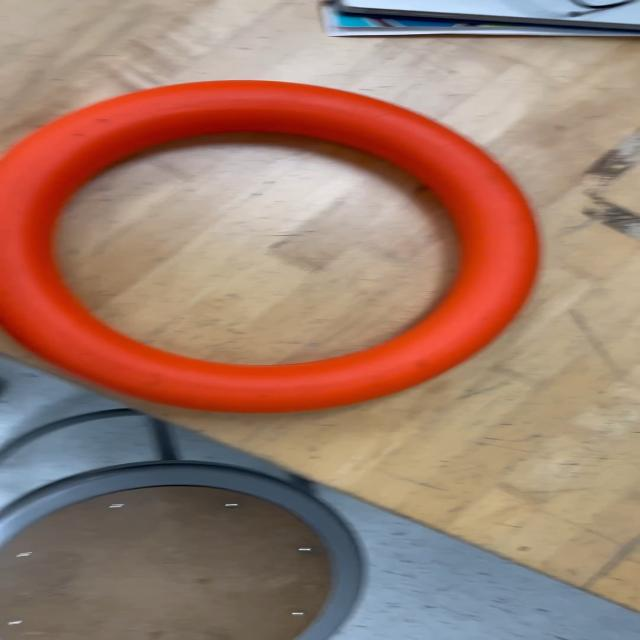note: (0, 79, 541, 415)
